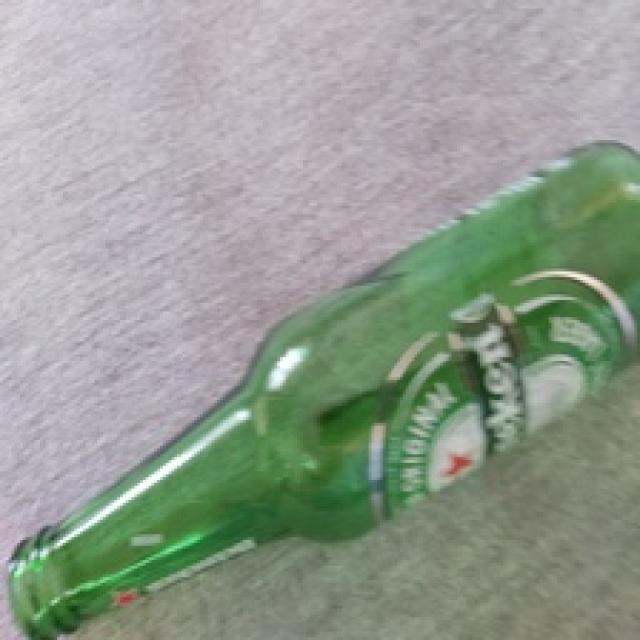Glass: (8, 134, 640, 639)
